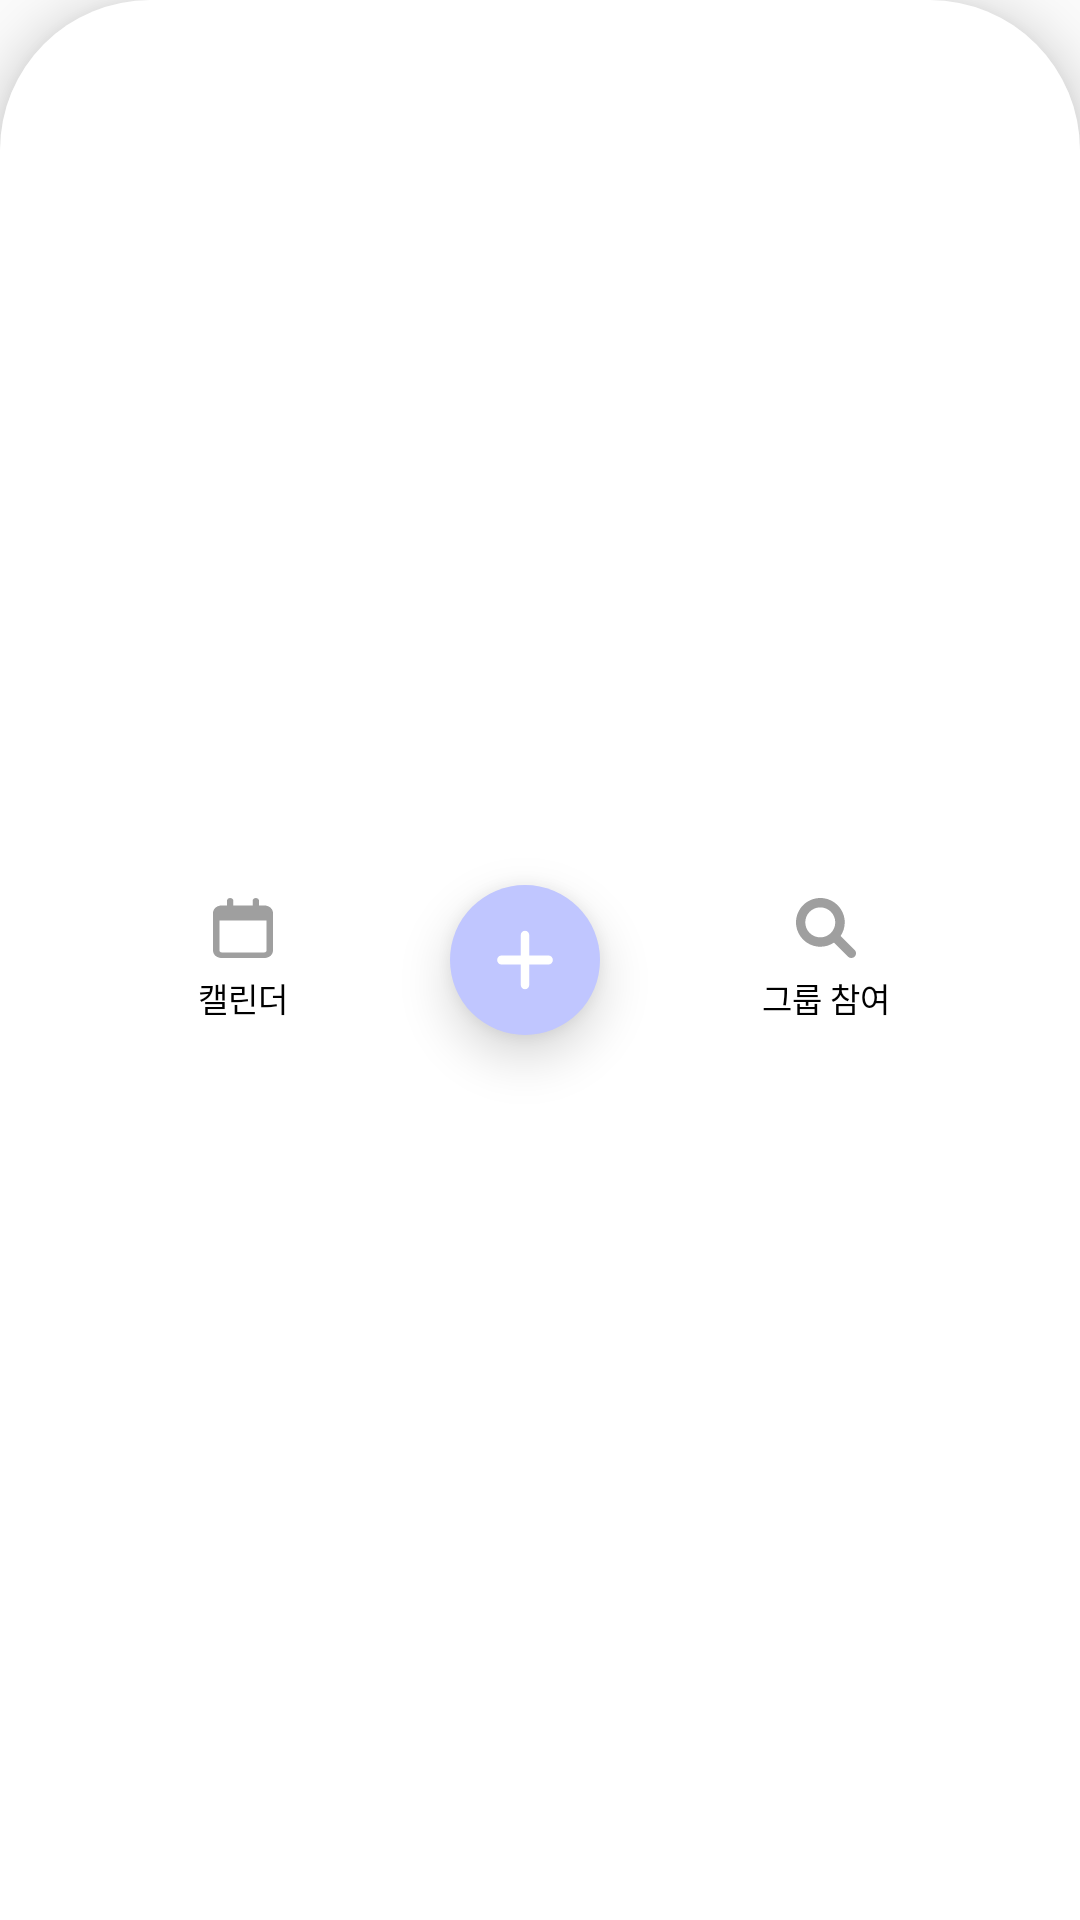

Where to tap for icons on this 1080px×1920px app screen, as (x=x, y=y):
magnifying glass: (x=826, y=928)
plus: (x=525, y=960)
